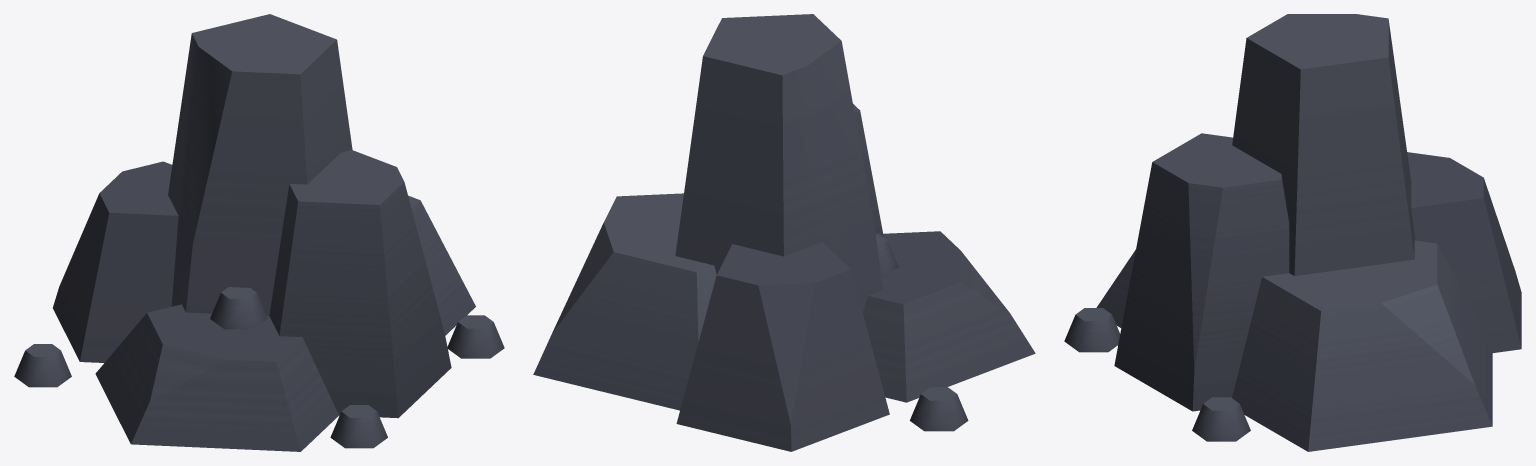
Rendered from rock-large.glb.
The picture shows the model from 3 angles, left to right: view 1: azimuth 30°, elevation 25°; view 2: azimuth 150°, elevation 25°; view 3: azimuth 270°, elevation 25°; orthographic projection. The views are drawn at different scales.
Visible parts, largest first — view 1: rock-large; view 2: rock-large; view 3: rock-large.
Boxes of the visible parts, <box> form: rock-large: <box>14,14,504,451</box>; rock-large: <box>533,14,1035,451</box>; rock-large: <box>1064,14,1521,451</box>.
Bounding box in the file's own units: 1.67 × 1.16 × 1.55.
Materials: 1 (1 with a texture image).
